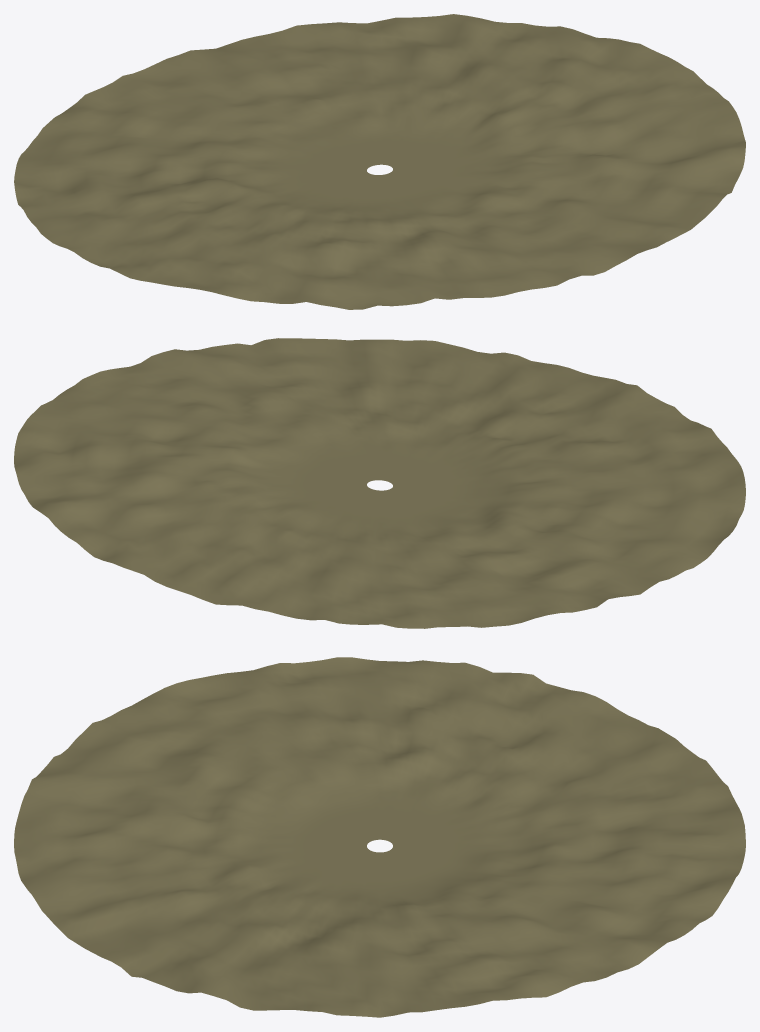
Rendered from tepeler.glb.
3 views of the same model, one above another, from view 1: azimuth 30°, elevation 25°; view 2: azimuth 150°, elevation 25°; view 3: azimuth 270°, elevation 25° (orthographic). The views are drawn at different scales.
Parts seen in each view (by area): view 1: Bozkir_Tepeleri.001; view 2: Bozkir_Tepeleri.001; view 3: Bozkir_Tepeleri.001.
Part boxes in pixels (x1,y1,x2,y2): Bozkir_Tepeleri.001: (14, 14, 745, 309); Bozkir_Tepeleri.001: (14, 338, 745, 628); Bozkir_Tepeleri.001: (14, 657, 745, 1017).
Bounding box in the file's own units: 16100 × 342 × 14000.
